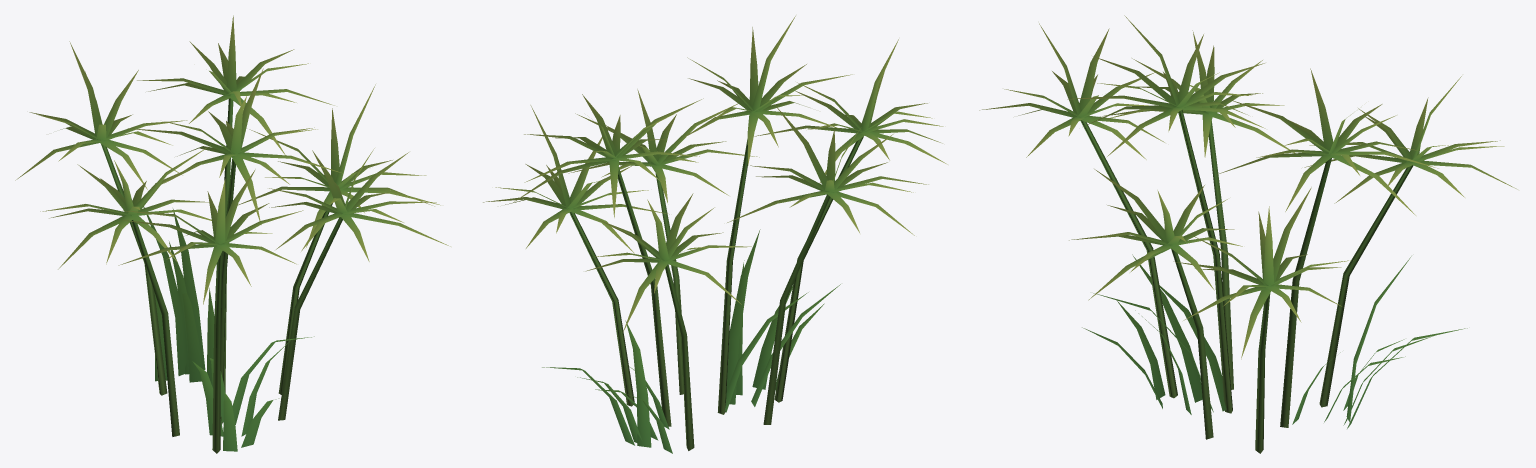
Rendered from reeds.glb.
3 views of the same model, side by side, from view 1: azimuth 30°, elevation 25°; view 2: azimuth 150°, elevation 25°; view 3: azimuth 270°, elevation 25° (orthographic). The views are drawn at different scales.
Parts seen in each view (by area): view 1: reeds; view 2: reeds; view 3: reeds.
Part boxes in pixels (box(x1,y1,x2,y2)): reeds: box(15, 15, 450, 453); reeds: box(483, 16, 947, 453); reeds: box(979, 15, 1517, 453).
Size of the model in its own units: 3.18 by 2.76 by 3.51.
